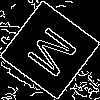M: (25, 25, 87, 86)
